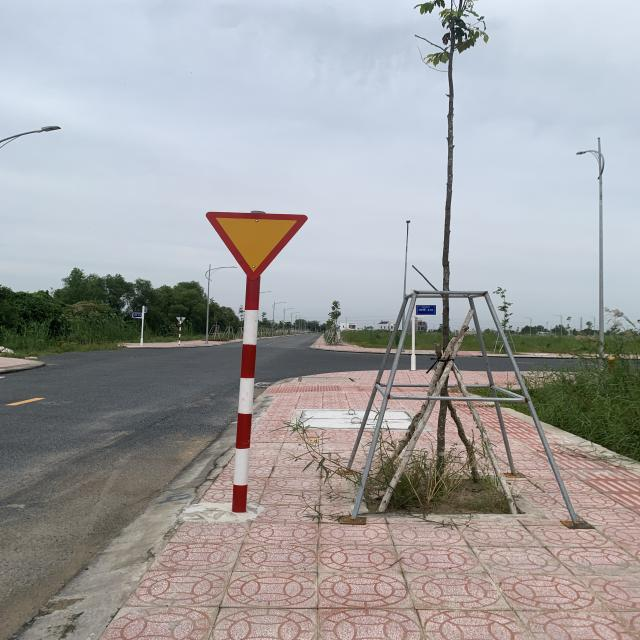Gioi_Han_Toc_Do_25: (205, 211, 308, 279)
